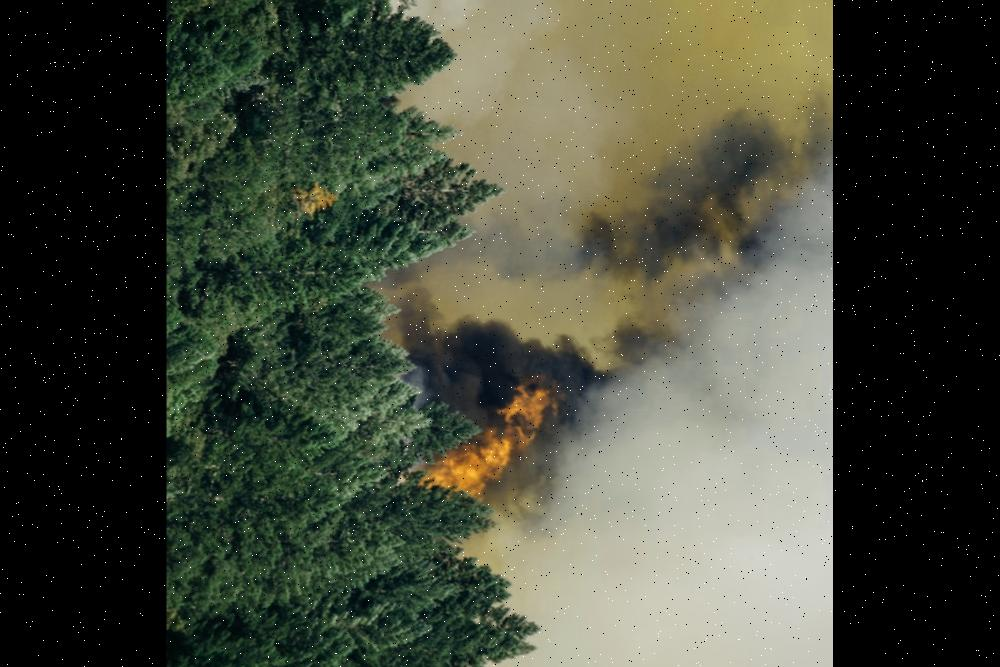fire: (386, 354, 610, 542)
